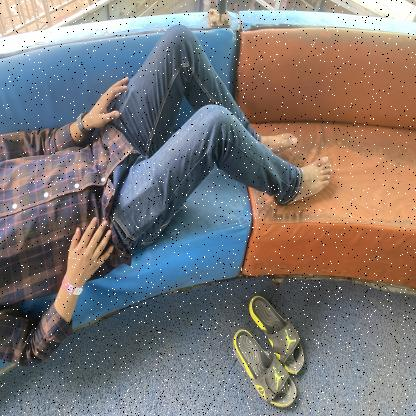hand: (16, 64, 148, 142), (35, 214, 120, 324)
leg: (277, 151, 341, 211), (246, 104, 303, 156)
